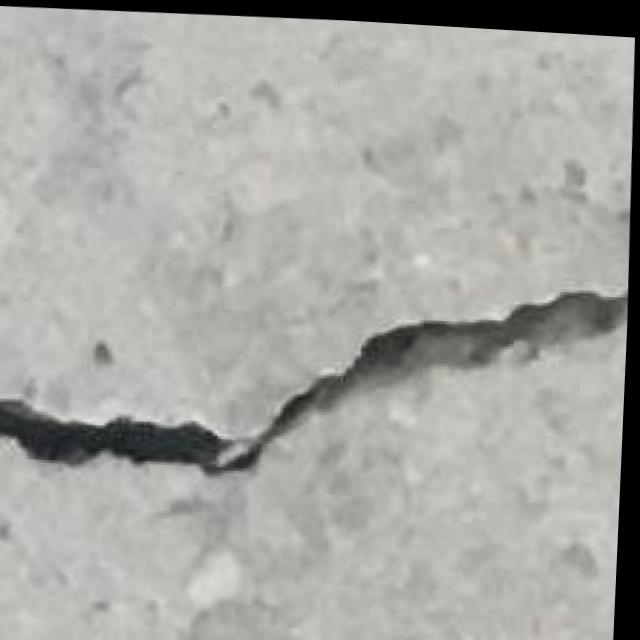Crack: (0, 242, 631, 506)
